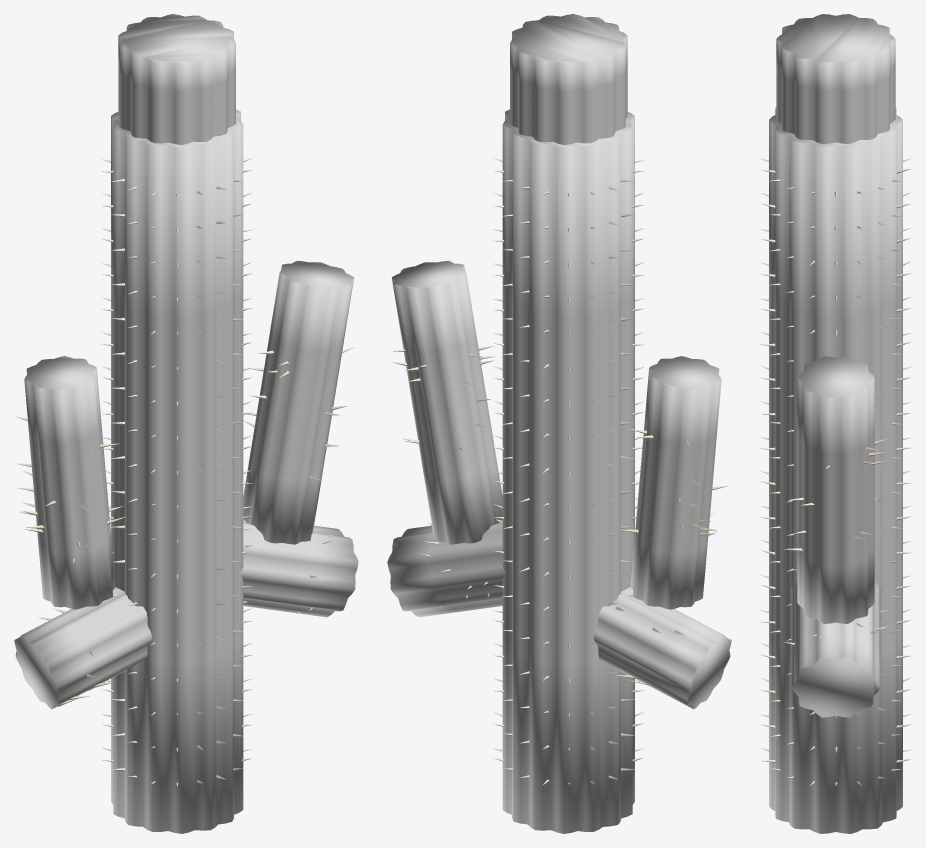
The picture shows the model from 3 angles, left to right: view 1: azimuth 30°, elevation 25°; view 2: azimuth 150°, elevation 25°; view 3: azimuth 270°, elevation 25°; orthographic projection.
Parts seen in each view (by area): view 1: TallSaguaroCactus; view 2: TallSaguaroCactus; view 3: TallSaguaroCactus.
Part boxes in pixels (x1,y1,x2,y2): TallSaguaroCactus: (14, 14, 358, 833); TallSaguaroCactus: (387, 14, 731, 833); TallSaguaroCactus: (760, 14, 911, 833).
Size of what is drawn, in the model's own units: 2.71 by 6.15 by 1.1.
